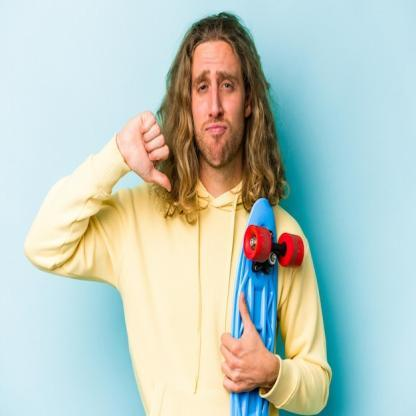thumb_down: (118, 107, 176, 196)
